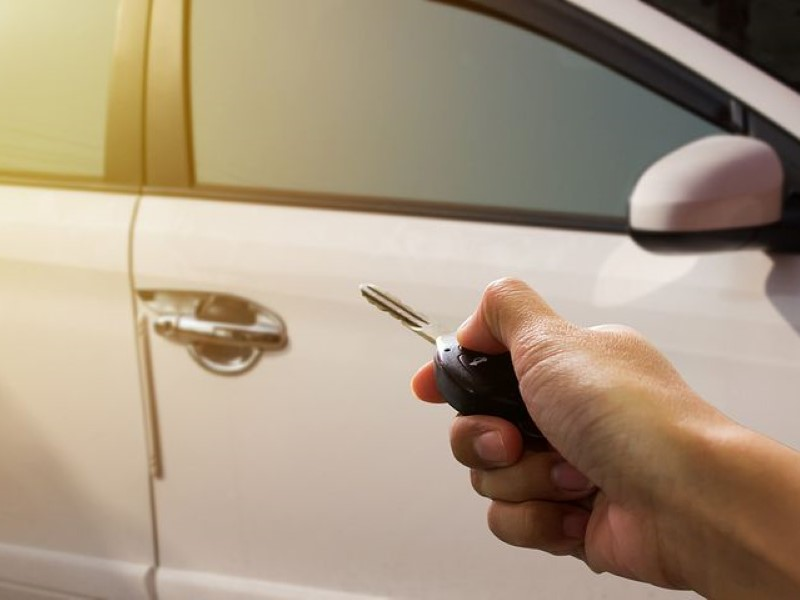carkey: (358, 272, 528, 425)
